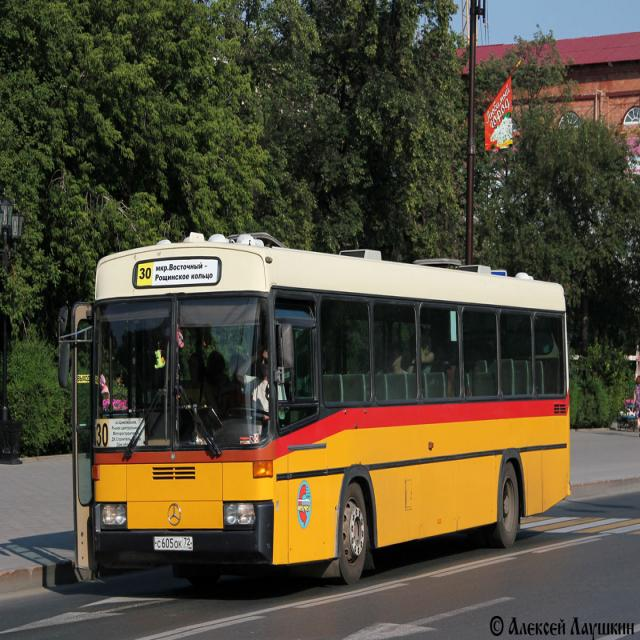number-of-bus: (94, 417, 111, 451), (139, 267, 154, 287)
